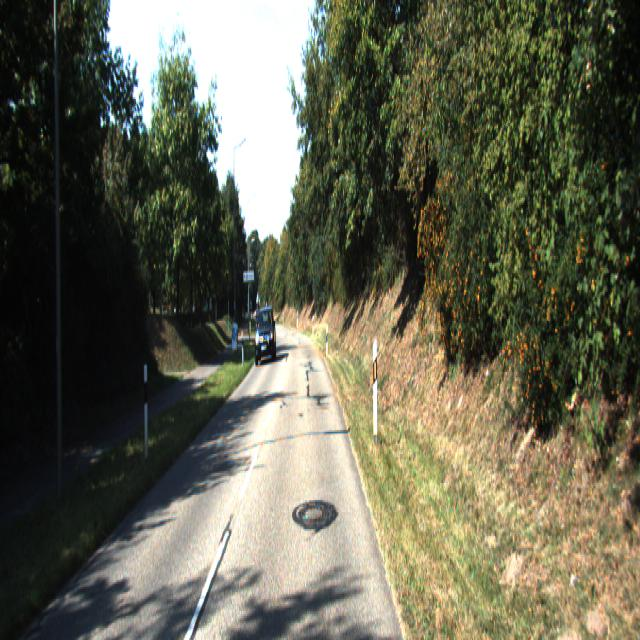Car: (254, 306, 276, 365)
